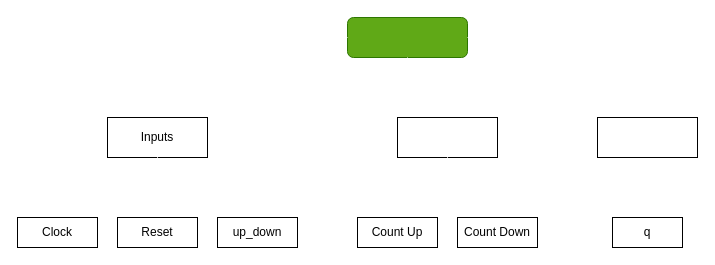
This 715x265 diagram has some shape labels left out. Each missing label, with the box of its shape:
Logic: (396, 116, 498, 158)
Outputs: (596, 116, 698, 158)
VHDL Counter: (346, 16, 468, 58)
